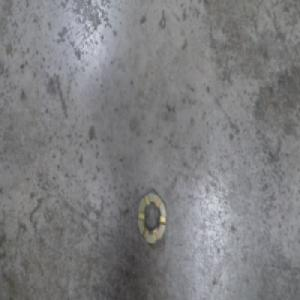Nut: (136, 186, 168, 246)
